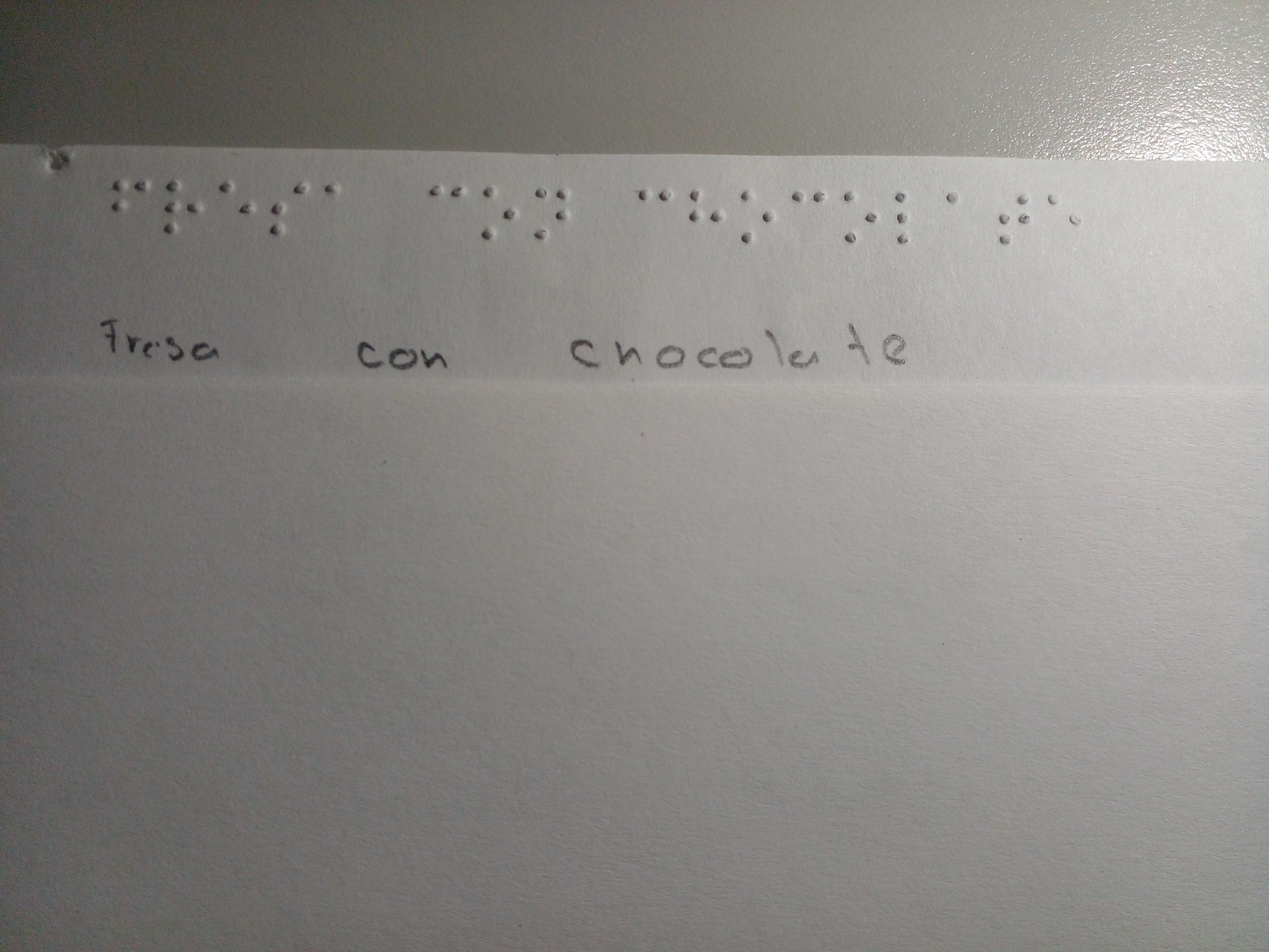a: (934, 187, 979, 239), (321, 175, 350, 215)
c: (414, 174, 474, 218), (629, 175, 674, 228), (787, 186, 830, 228)
e: (1036, 184, 1094, 234), (215, 175, 265, 232)
f: (108, 161, 160, 232)
h: (683, 180, 730, 237)
l: (891, 184, 926, 249)
n: (531, 178, 578, 245)
o: (736, 183, 784, 254), (835, 186, 885, 245), (479, 186, 524, 245)
r: (164, 170, 204, 242)
s: (270, 178, 316, 245)
t: (990, 186, 1036, 251)
